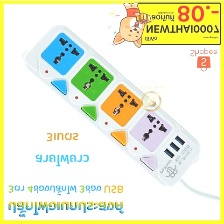three_eye_plug: (19, 21, 204, 192)
